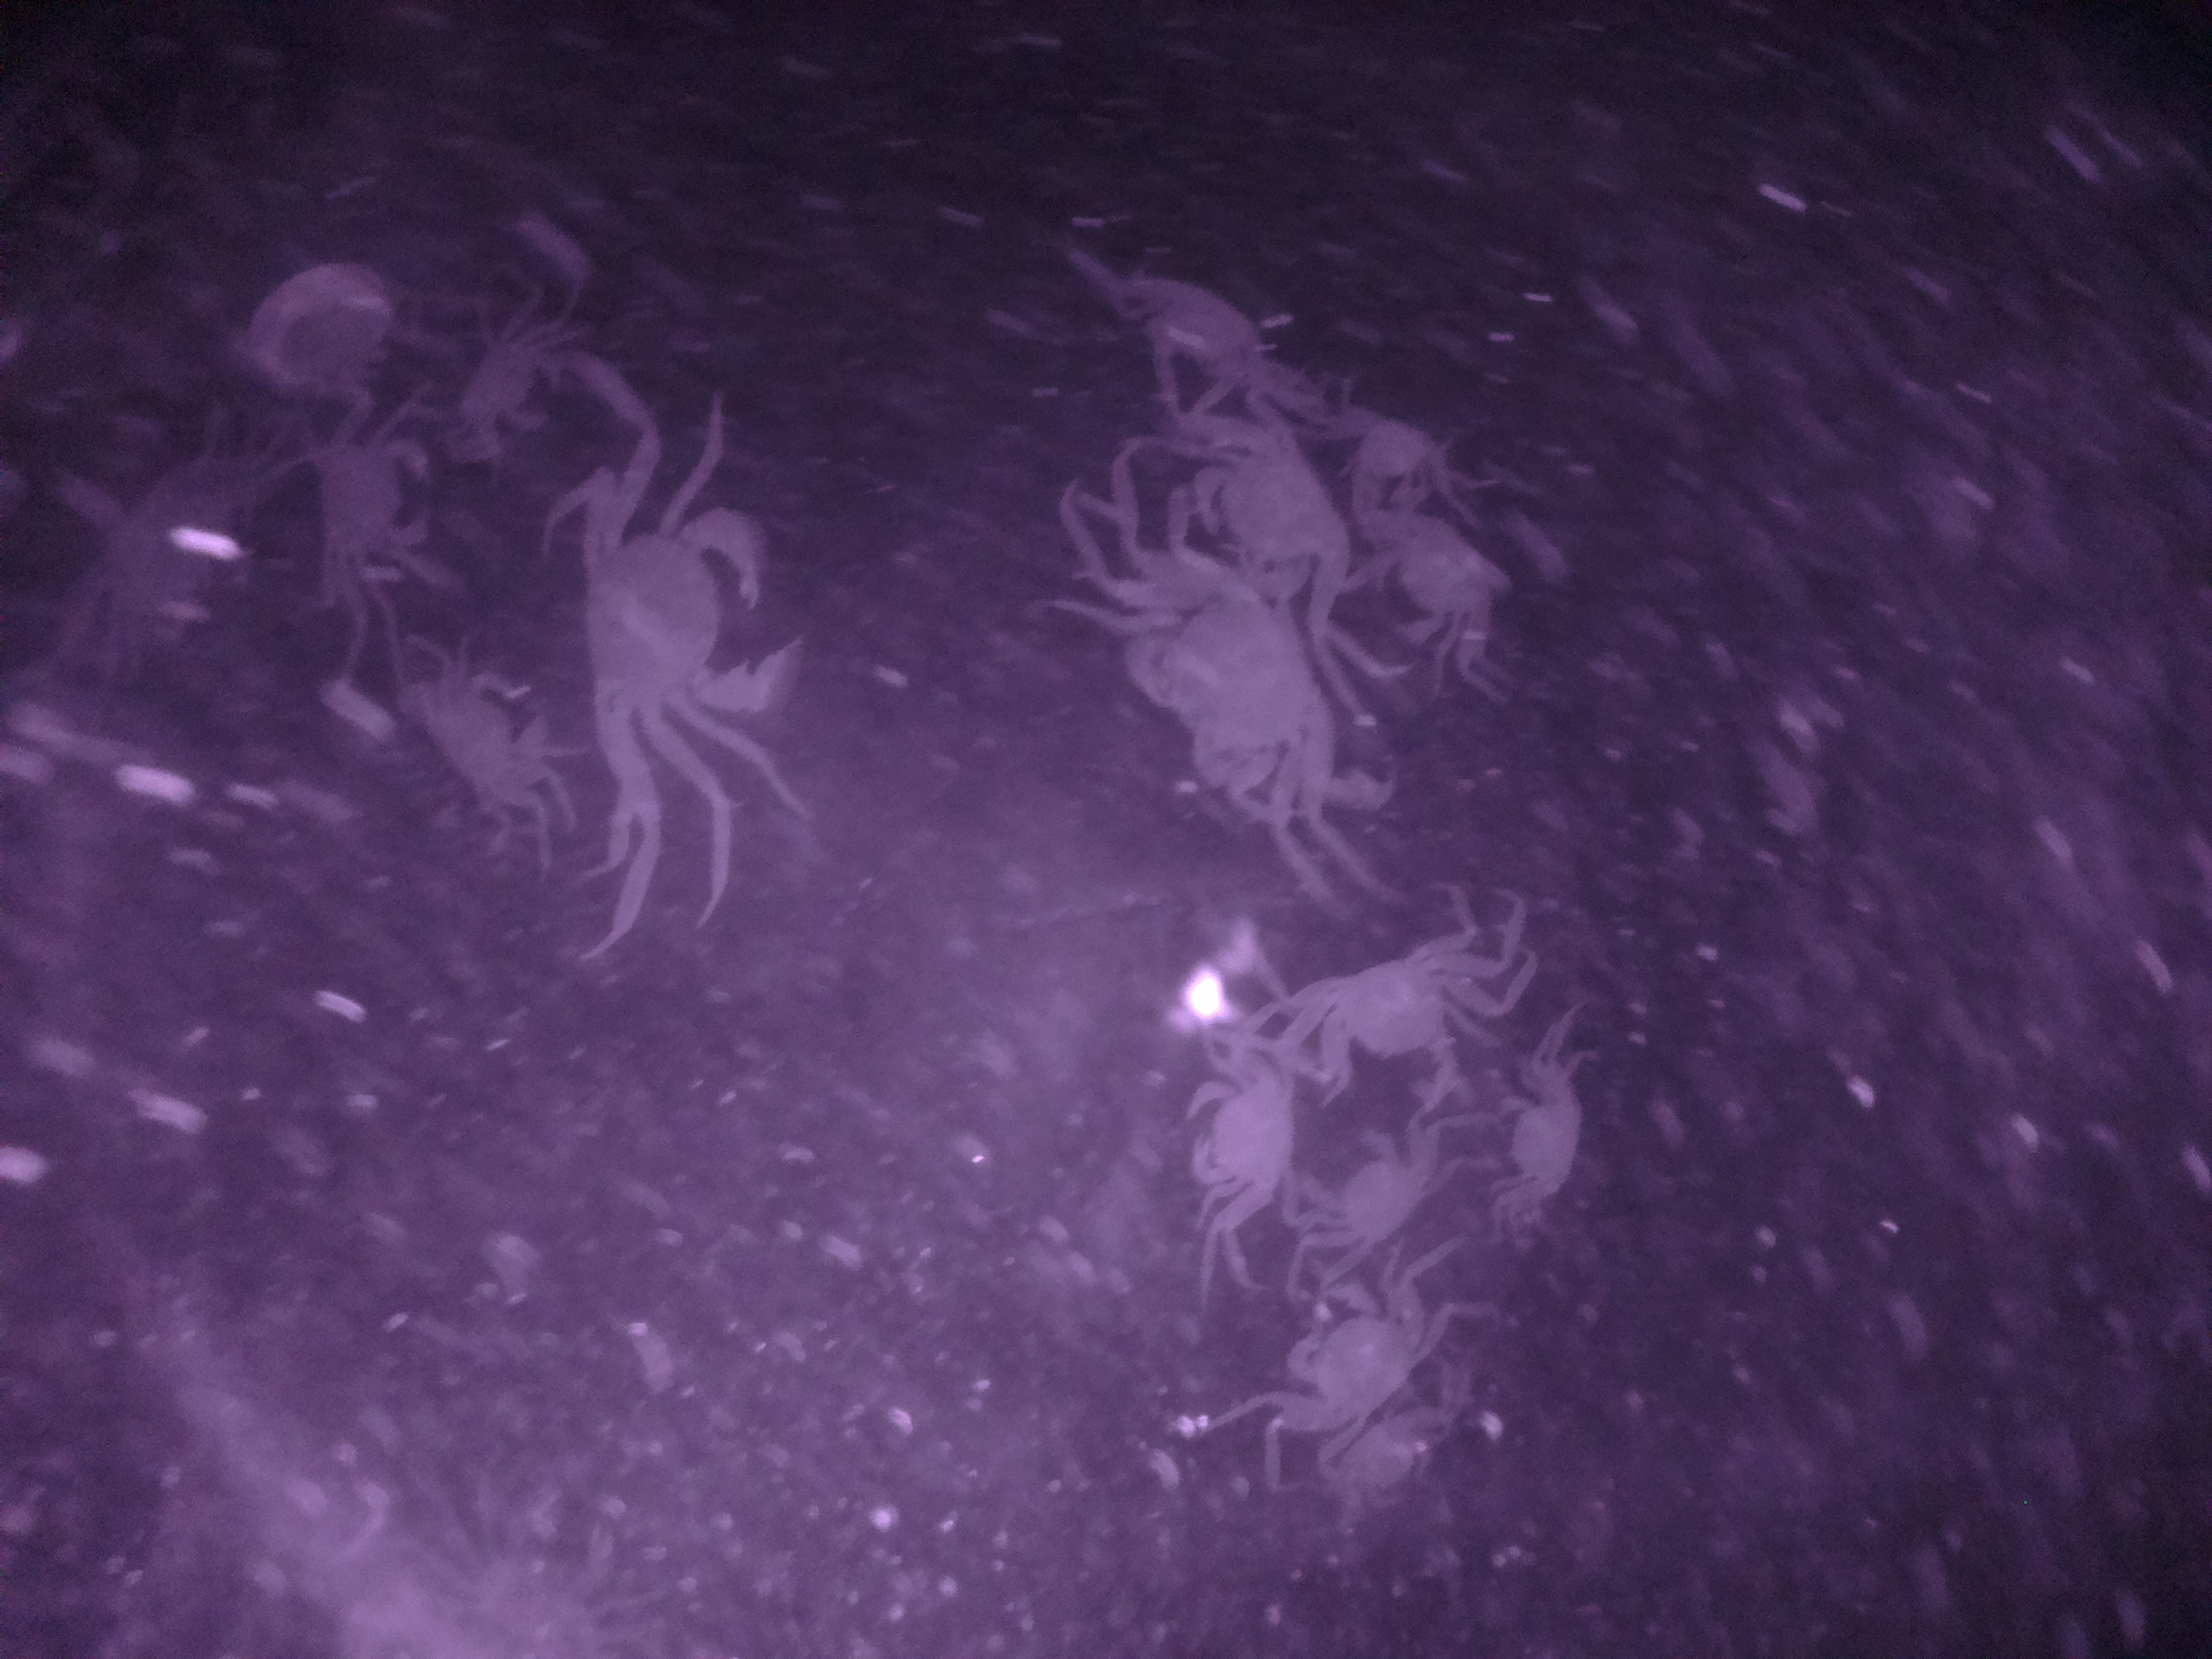Crab: (556, 472, 810, 744), (1127, 552, 1327, 823), (1270, 1263, 1447, 1446), (1292, 931, 1479, 1101), (1359, 500, 1529, 669), (312, 390, 441, 586), (1287, 1115, 1435, 1272), (1491, 1056, 1611, 1248), (1176, 1039, 1308, 1209), (408, 662, 561, 809), (453, 328, 578, 448), (1332, 401, 1480, 500)
